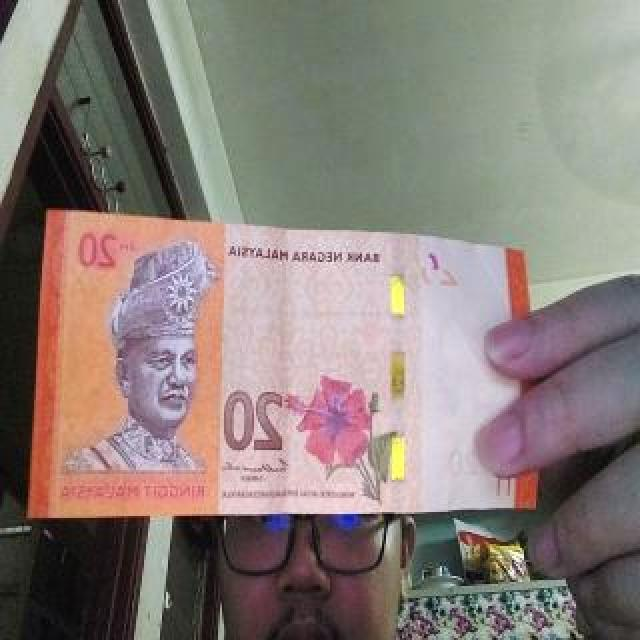20 Ringgit: (34, 202, 537, 519)
